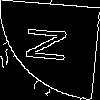N: (25, 24, 77, 66)
